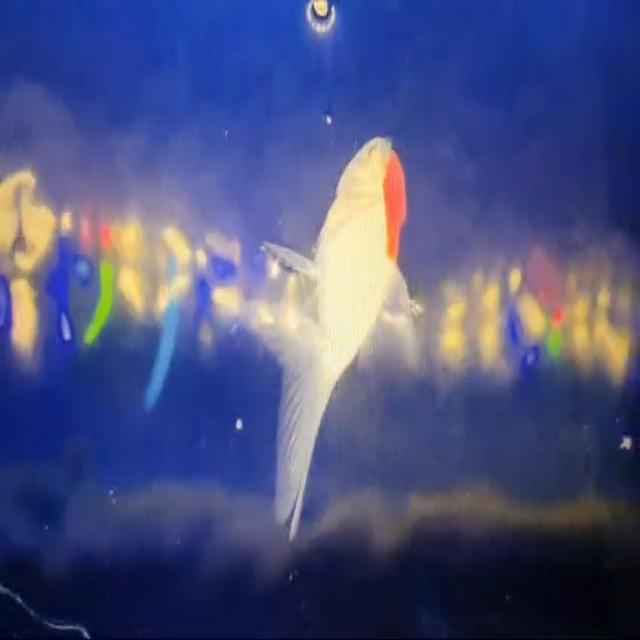fish: (242, 95, 416, 557)
